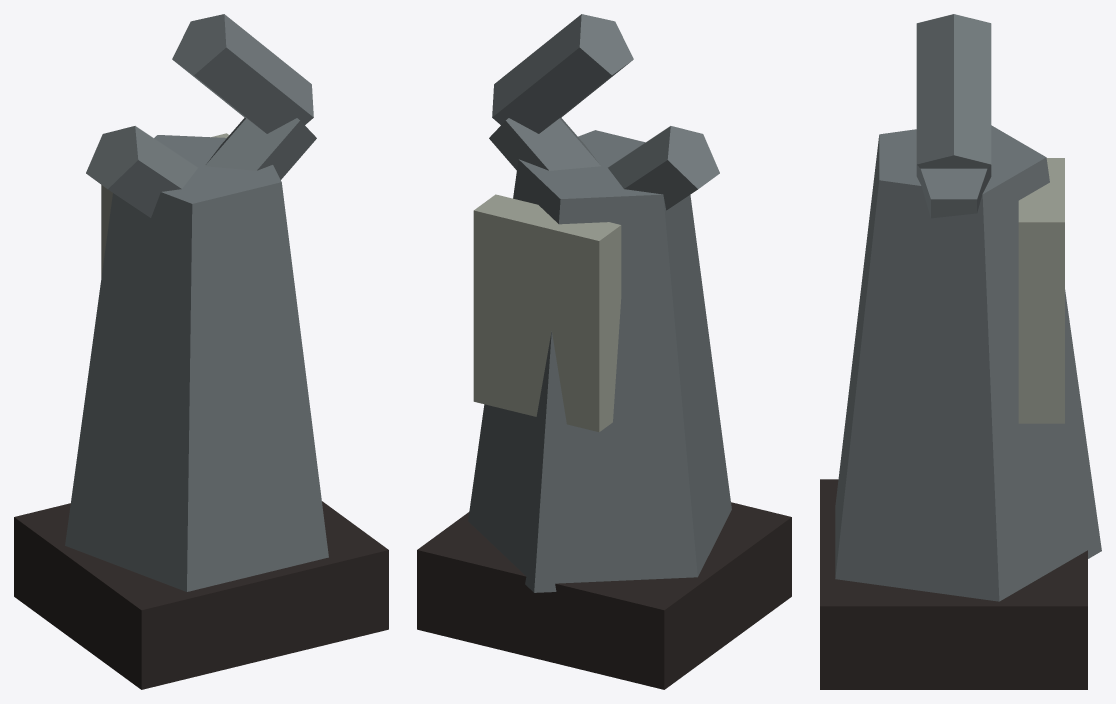
File: OldStatue_A.fbx
3 renders of one model, left to right at view 1: azimuth 30°, elevation 25°; view 2: azimuth 150°, elevation 25°; view 3: azimuth 270°, elevation 25°, orthographic. The views are drawn at different scales.
Visible parts, largest first — view 1: OldStatue_A; view 2: OldStatue_A; view 3: OldStatue_A.
Boxes of the visible parts, x1=… form: OldStatue_A: x1=14, y1=14, x2=388, y2=689; OldStatue_A: x1=417, y1=14, x2=791, y2=689; OldStatue_A: x1=820, y1=14, x2=1101, y2=689.
Size of the model in its own units: 0.7197 by 1.65 by 0.6755.
1 material, 1 textured.
